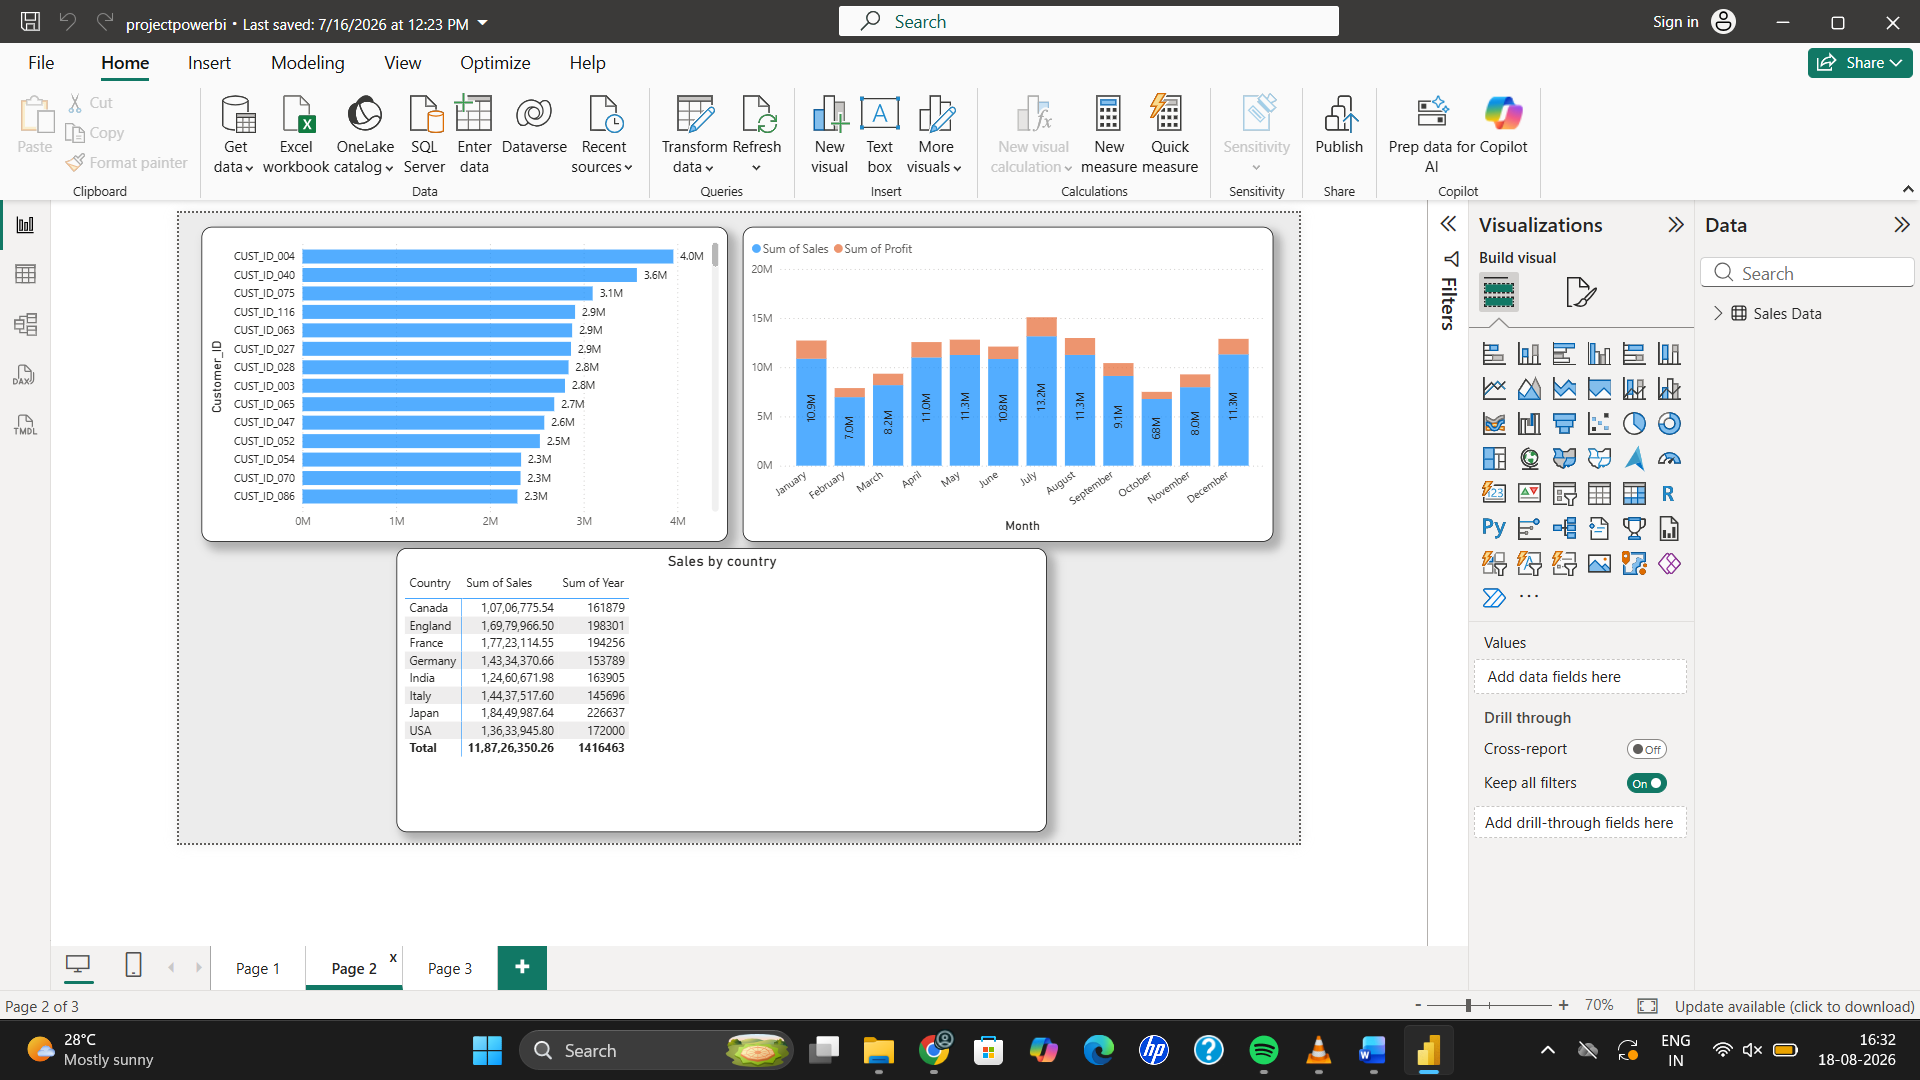

The dashboard page shown, as its layout file describes it:
{"tool":"powerbi","page":{"name":"Page 2","canvas":[1280,720],"ordinal":1},"visuals":[{"type":"clusteredBarChart","title":"Sales Generated by Customers","fields":{"Y":["Sum(Sales Data.Sales)"],"Category":["Sales Data.Customer_ID"]},"box":[25,15,601.7,360],"z":0},{"type":"columnChart","title":"Sales and Profit by Month","fields":{"Y":["Sum(Sales Data.Sales)","Sum(Sales Data.Profit)"],"Category":["Sales Data.Date.Variation.Date Hierarchy.Month"]},"box":[645,15,606.7,360],"z":1000},{"type":"pivotTable","title":"Sales by country","fields":{"Values":["Sum(Sales Data.Sales)","Sum(Sales Data.Year)"],"Rows":["Sales Data.Country"]},"box":[248.3,383.3,743.3,325],"z":2000}]}

Visuals, with their boxes on the page's 1280x720 design canvas (x1, y1, x2, y2). These are canvas units, not pixel positions in the 1920x1080 screenshot, which may show the page scaled, cropped or inside an application window:
"Sales Generated by Customers" clusteredBarChart: box(25, 15, 627, 375)
"Sales and Profit by Month" columnChart: box(645, 15, 1252, 375)
"Sales by country" pivotTable: box(248, 383, 992, 708)
